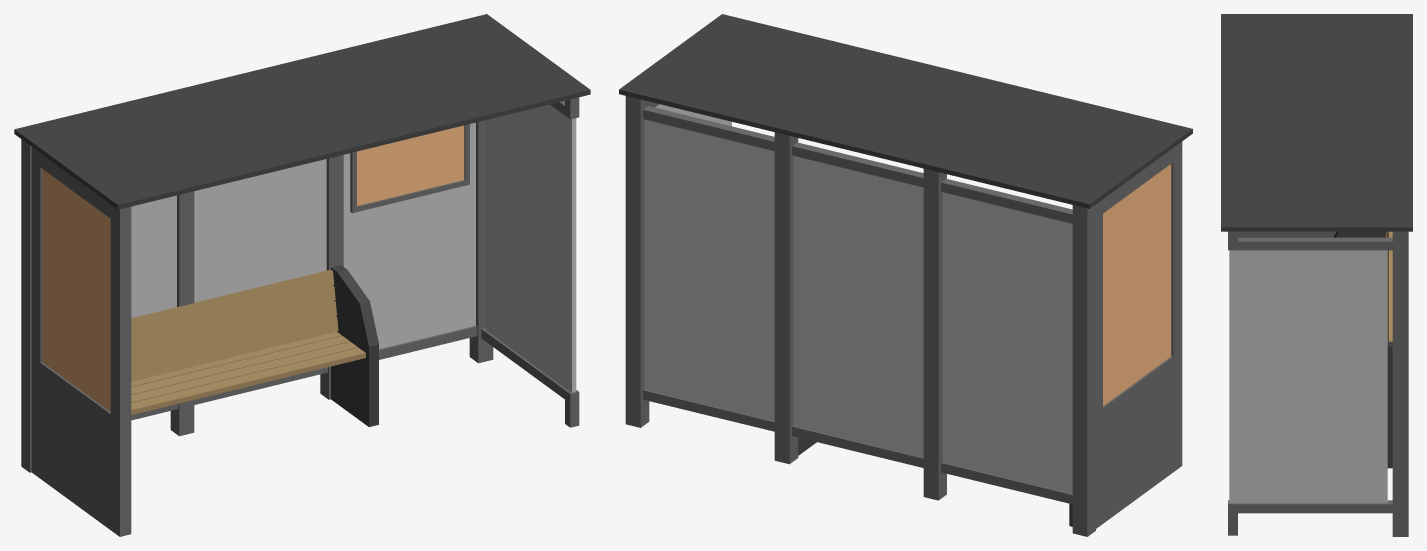
File: BusStation_01.fbx
3 views of the same model, side by side, from view 1: azimuth 30°, elevation 25°; view 2: azimuth 150°, elevation 25°; view 3: azimuth 270°, elevation 25° (orthographic). The views are drawn at different scales.
Visible parts, largest first — view 1: BusStation_01; view 2: BusStation_01; view 3: BusStation_01.
Boxes of the visible parts, <box> form: BusStation_01: <box>14,14,590,536</box>; BusStation_01: <box>619,14,1192,536</box>; BusStation_01: <box>1221,14,1412,536</box>.
Bounding box in the file's own units: 316 × 215 × 120.
